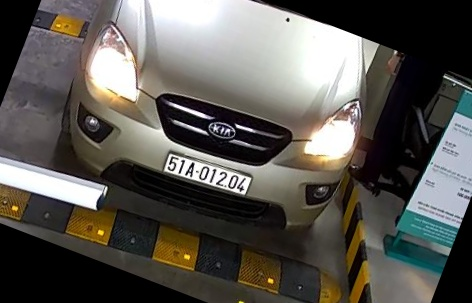plate: (161, 147, 257, 204)
